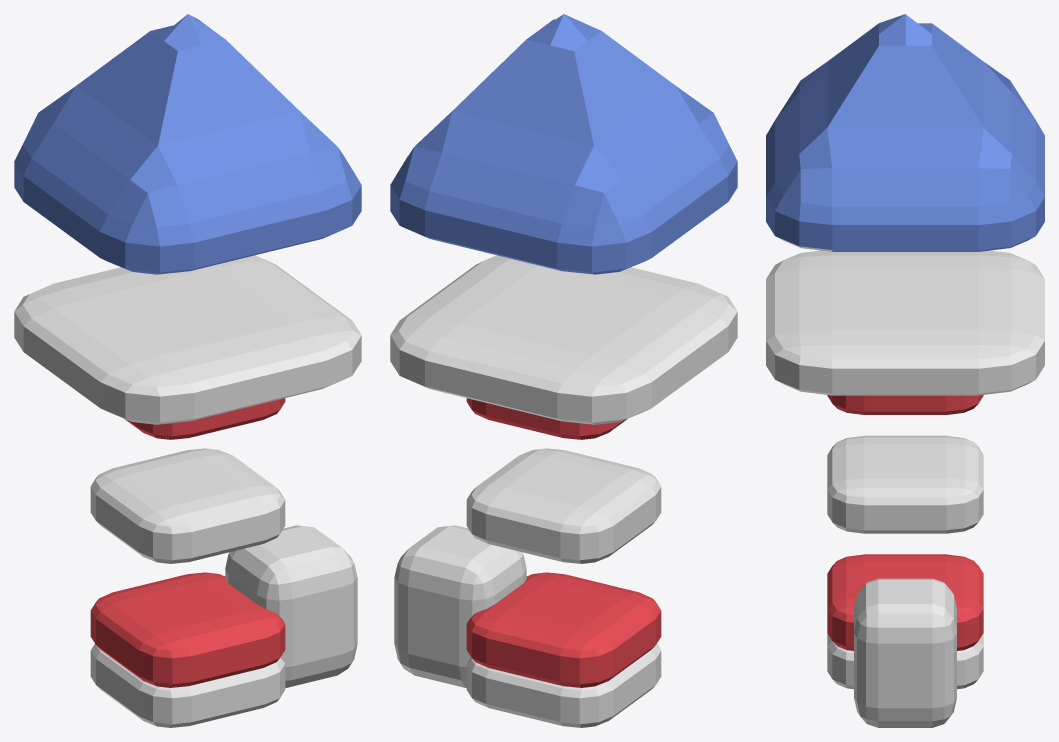
File: LightHouseLow.fbx
The picture shows the model from 3 angles, left to right: view 1: azimuth 30°, elevation 25°; view 2: azimuth 150°, elevation 25°; view 3: azimuth 270°, elevation 25°; orthographic projection. The views are drawn at different scales.
Visible parts, largest first — view 1: Cube.009, Cube.008, Cube.004, Cube.001, Cube.014, Cube, Cube.007; view 2: Cube.009, Cube.008, Cube.004, Cube.001, Cube.014, Cube, Cube.007; view 3: Cube.009, Cube.008, Cube.004, Cube.014, Cube.001, Cube.007, Cube.
Part boxes in pixels (x1,y1,x2,y2): Cube.009: (14,14,361,274); Cube.008: (14,255,361,424); Cube.004: (90,448,285,563); Cube.001: (90,572,285,687); Cube.014: (225,525,357,687); Cube: (90,644,285,727); Cube.007: (124,398,285,439); Cube.009: (390,14,737,274); Cube.008: (390,255,737,424); Cube.004: (466,448,661,563); Cube.001: (466,572,661,687); Cube.014: (394,525,526,687); Cube: (466,644,661,727); Cube.007: (466,398,627,439); Cube.009: (766,14,1044,251); Cube.008: (766,250,1044,395); Cube.004: (827,435,983,533); Cube.014: (854,578,956,727); Cube.001: (827,554,983,650); Cube.007: (827,395,983,414); Cube: (827,633,983,689).
Size of the model in its own units: 393 by 922 by 357.
